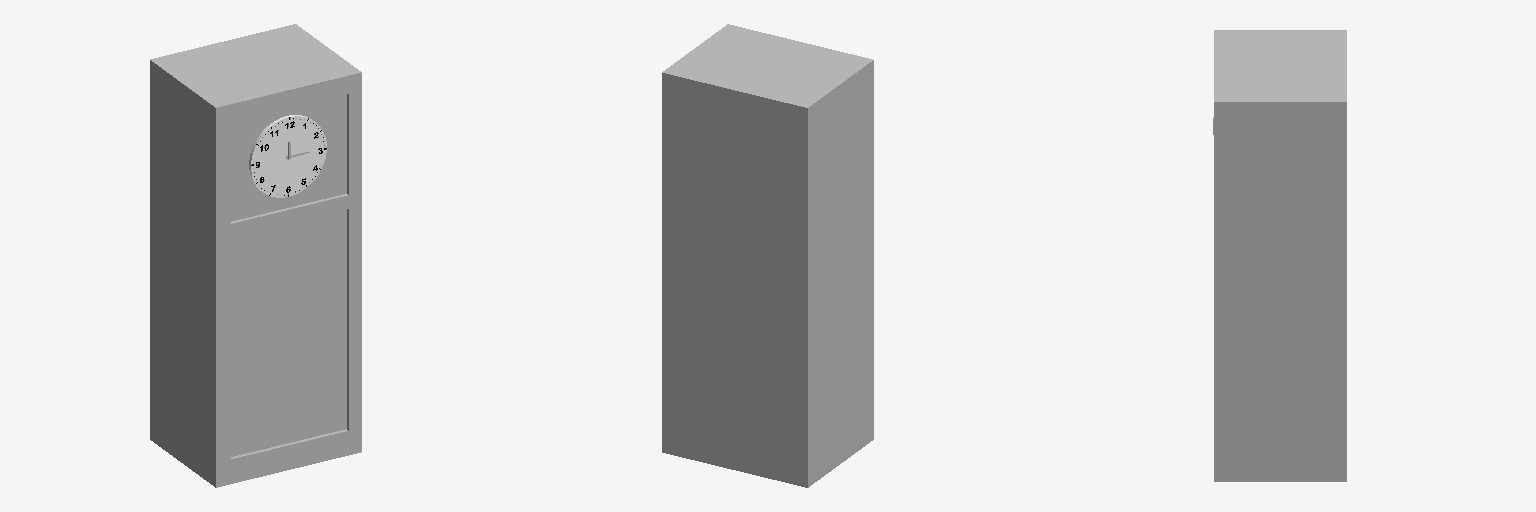
The picture shows the model from 3 angles: view 1: azimuth 30°, elevation 25°; view 2: azimuth 150°, elevation 25°; view 3: azimuth 270°, elevation 25°; orthographic projection.
Visible parts, largest first — view 1: box_Cube.004, clock_face_Cube.005; view 2: box_Cube.004; view 3: box_Cube.004.
Boxes of the visible parts, box(x1,y1,x2,y2) form: box_Cube.004: box(150, 24, 361, 487); clock_face_Cube.005: box(249, 115, 326, 197); box_Cube.004: box(662, 24, 873, 487); box_Cube.004: box(1214, 30, 1346, 481).
Bounding box in the file's own units: 0.7645 × 1.9 × 0.6028.
Materials: 5 (2 with a texture image).